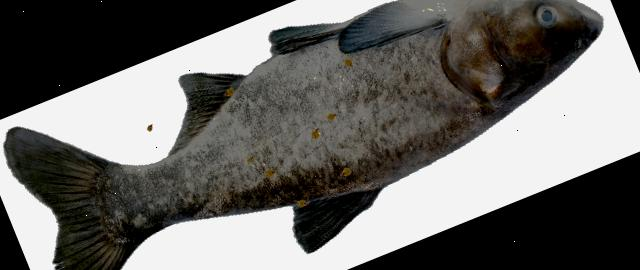Parasitic Disease: (3, 0, 601, 270)
